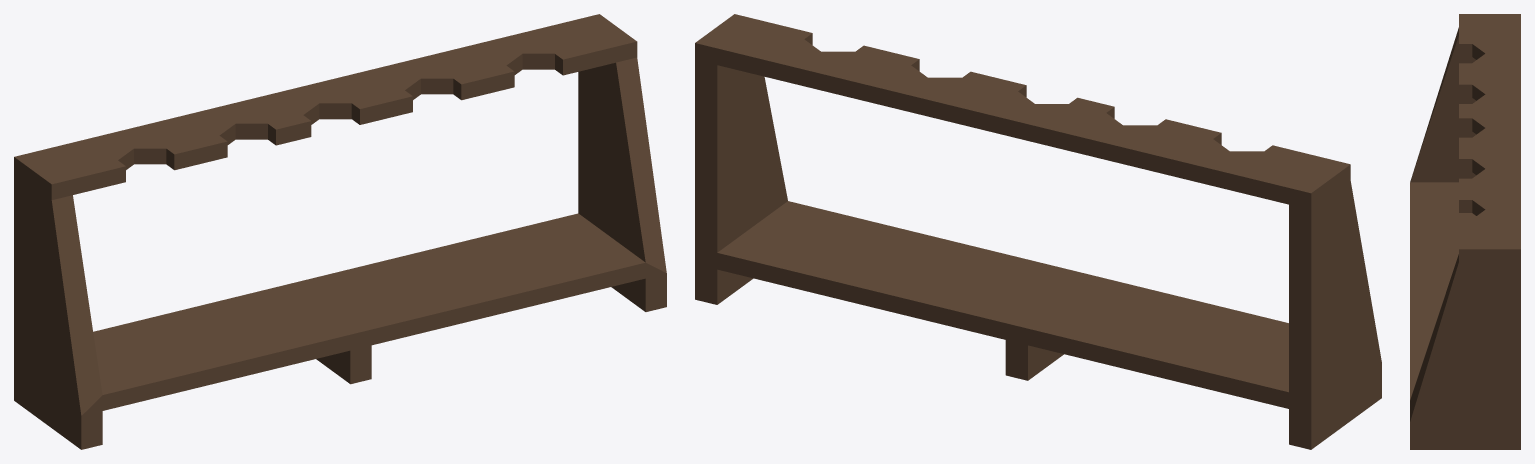
Rendered from SM_Stand_For_Flasks.gltf.
3 views of the same model, side by side, from view 1: azimuth 30°, elevation 25°; view 2: azimuth 150°, elevation 25°; view 3: azimuth 270°, elevation 25° (orthographic). The views are drawn at different scales.
Parts seen in each view (by area): view 1: SM_Stand_For_Flasks; view 2: SM_Stand_For_Flasks; view 3: SM_Stand_For_Flasks.
Part boxes in pixels (<box>): SM_Stand_For_Flasks: <box>14,14,666,449</box>; SM_Stand_For_Flasks: <box>695,14,1381,449</box>; SM_Stand_For_Flasks: <box>1410,14,1520,449</box>.
Size of the model in its own units: 0.3308 by 0.1317 by 0.0658.
Materials: 1 (1 with a texture image).
